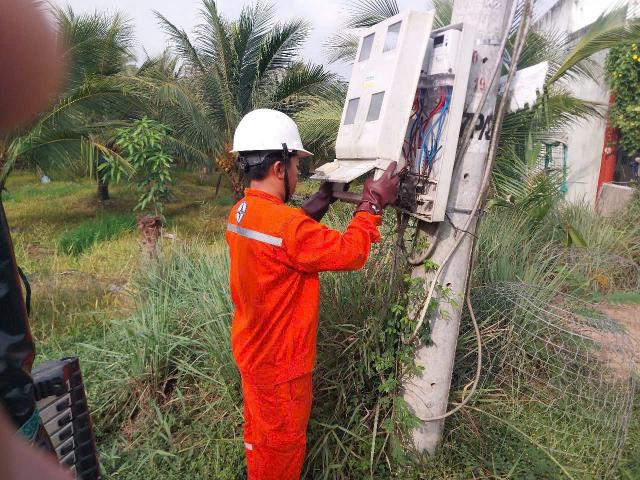gloves: (349, 163, 415, 223), (295, 166, 354, 221)
helmet: (220, 101, 319, 169)
